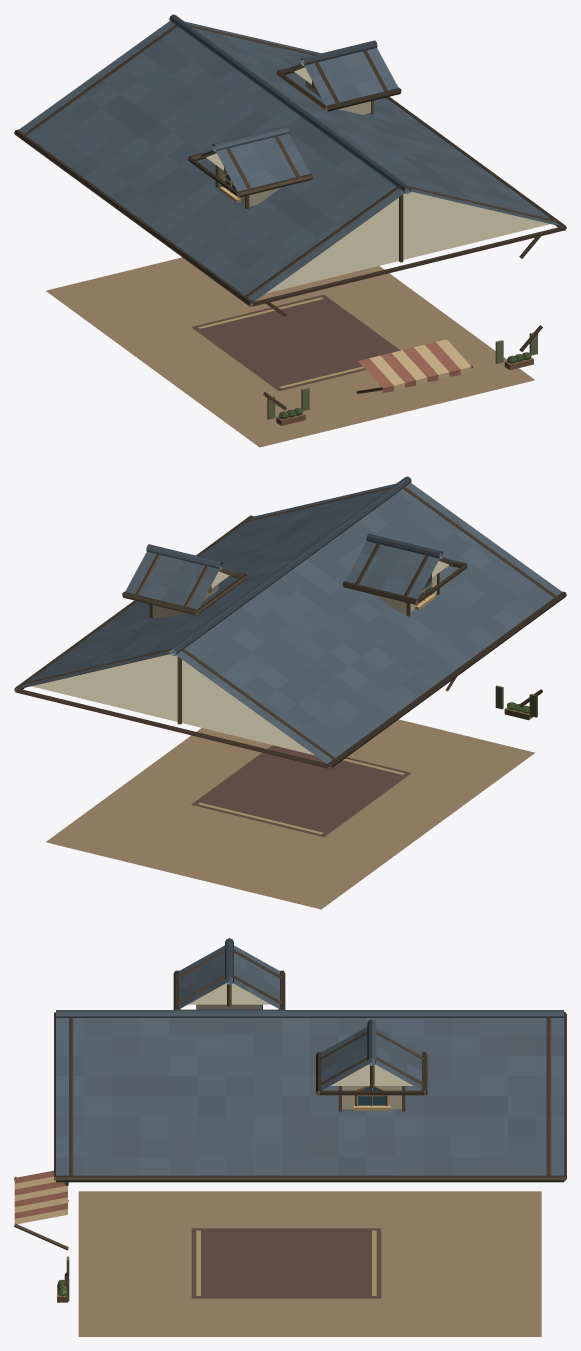
3 views of the same model, one above another, from view 1: azimuth 30°, elevation 25°; view 2: azimuth 150°, elevation 25°; view 3: azimuth 270°, elevation 25° (orthographic). The views are drawn at different scales.
Parts seen in each view (by area): view 1: 648e433676be74cc6aaaed85013f21c5cf09379f41f0557500f82967230e; view 2: 648e433676be74cc6aaaed85013f21c5cf09379f41f0557500f82967230e; view 3: 648e433676be74cc6aaaed85013f21c5cf09379f41f0557500f82967230e.
Boxes of the visible parts, <box> form: 648e433676be74cc6aaaed85013f21c5cf09379f41f0557500f82967230e: <box>14,14,566,447</box>; 648e433676be74cc6aaaed85013f21c5cf09379f41f0557500f82967230e: <box>14,476,566,909</box>; 648e433676be74cc6aaaed85013f21c5cf09379f41f0557500f82967230e: <box>14,938,566,1336</box>.
Size of the model in its own units: 10.02 by 7.42 by 13.98.
Materials: 6 (1 with a texture image).
